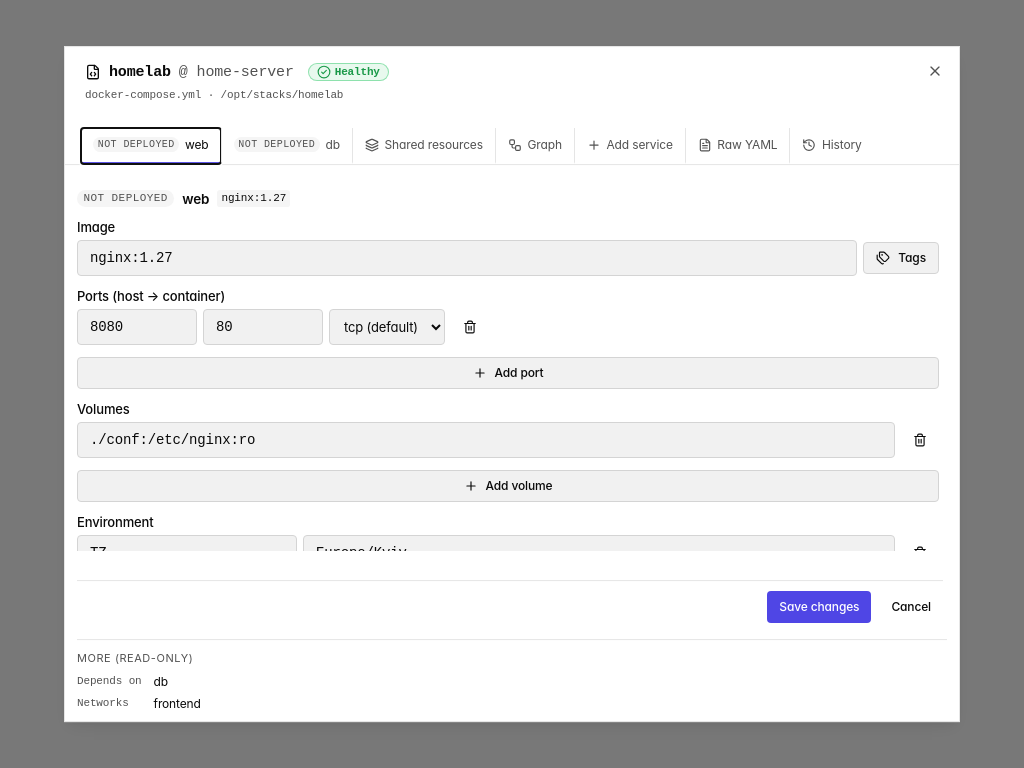
Scenario: ComposeProjectModal — layout › opens shared resources with the four sections and an explanation
Click the tab "Shared resources" at [423, 146], box top-left (352, 128), bottom-right (495, 164)
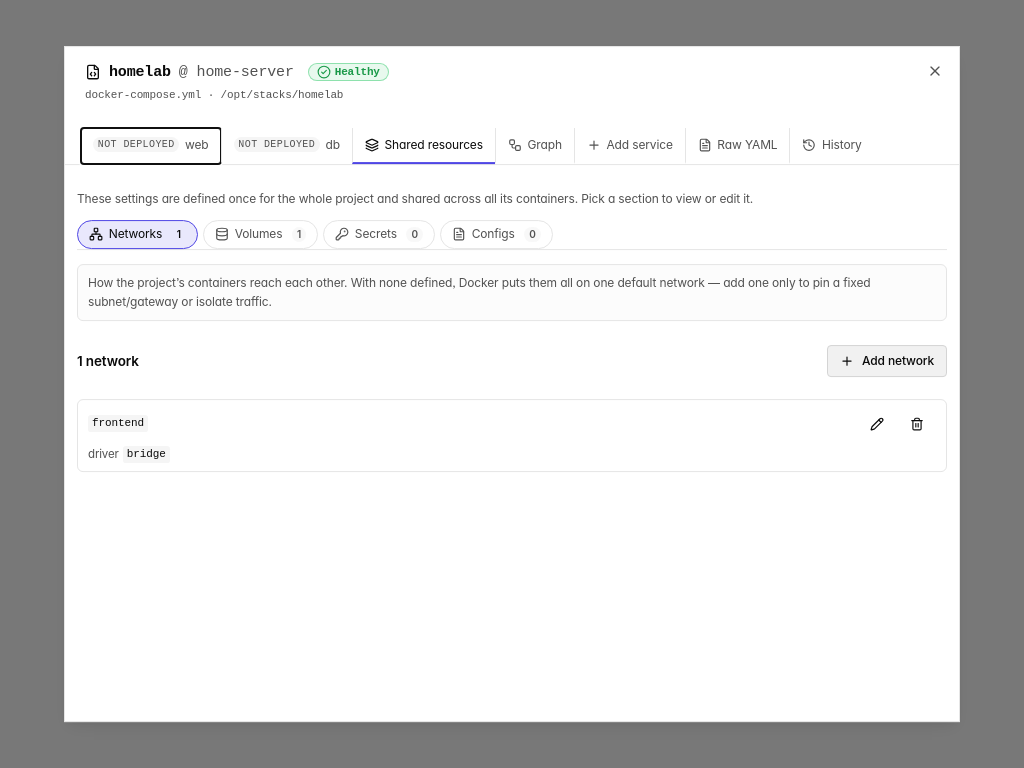
Check: the tab "Networks 1" is shown, box top-left (77, 220), bottom-right (198, 249)
Check: the tab "Volumes 1" is shown
Check: the tab "Secrets 0" is shown, box top-left (323, 220), bottom-right (435, 249)
// Switching to Volumes swaps the explanation.
Click the tab "Volumes 1" at [261, 235], box top-left (203, 220), bottom-right (318, 249)
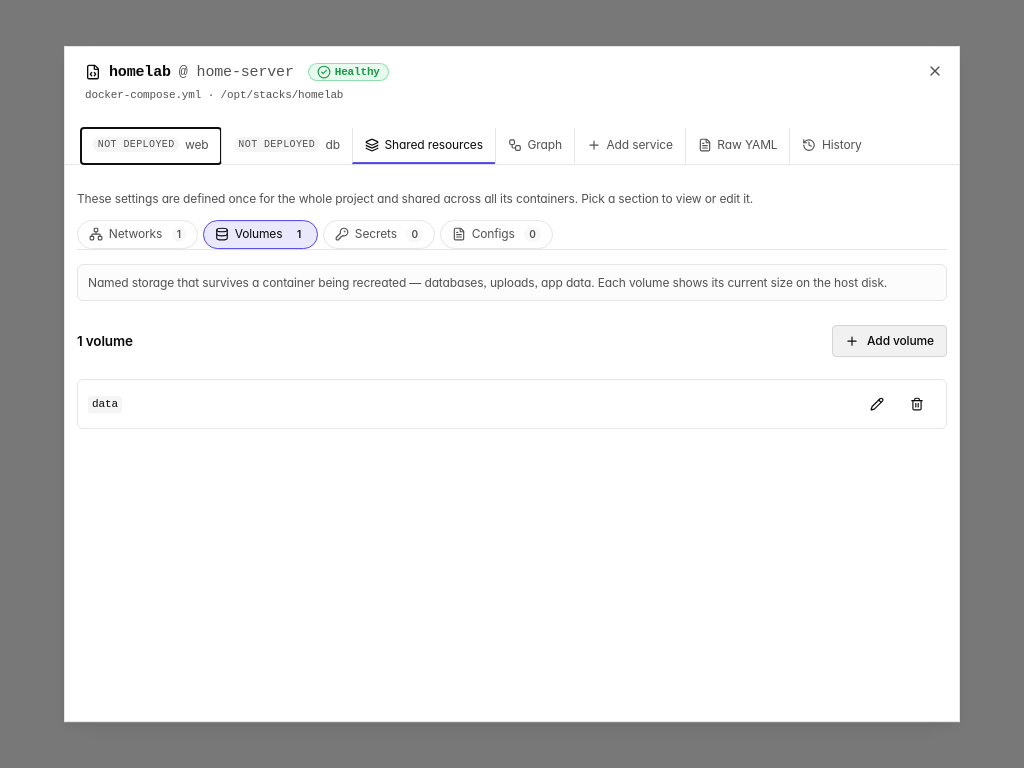
Check: the text "survives a container being recreated" is shown, box top-left (88, 275), bottom-right (887, 290)
